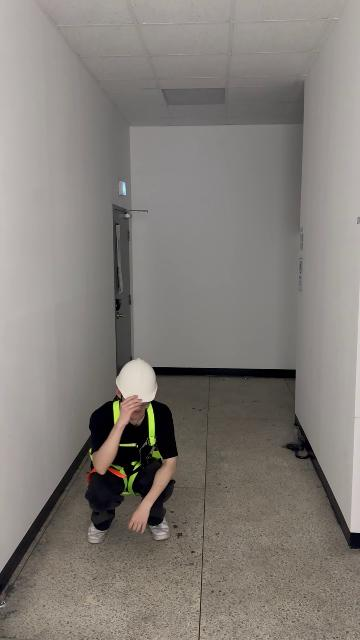helmet_worn: (115, 357, 159, 404)
shoe_not_worn: (148, 516, 170, 540), (87, 523, 107, 543)
vest_worn: (90, 400, 161, 491)
